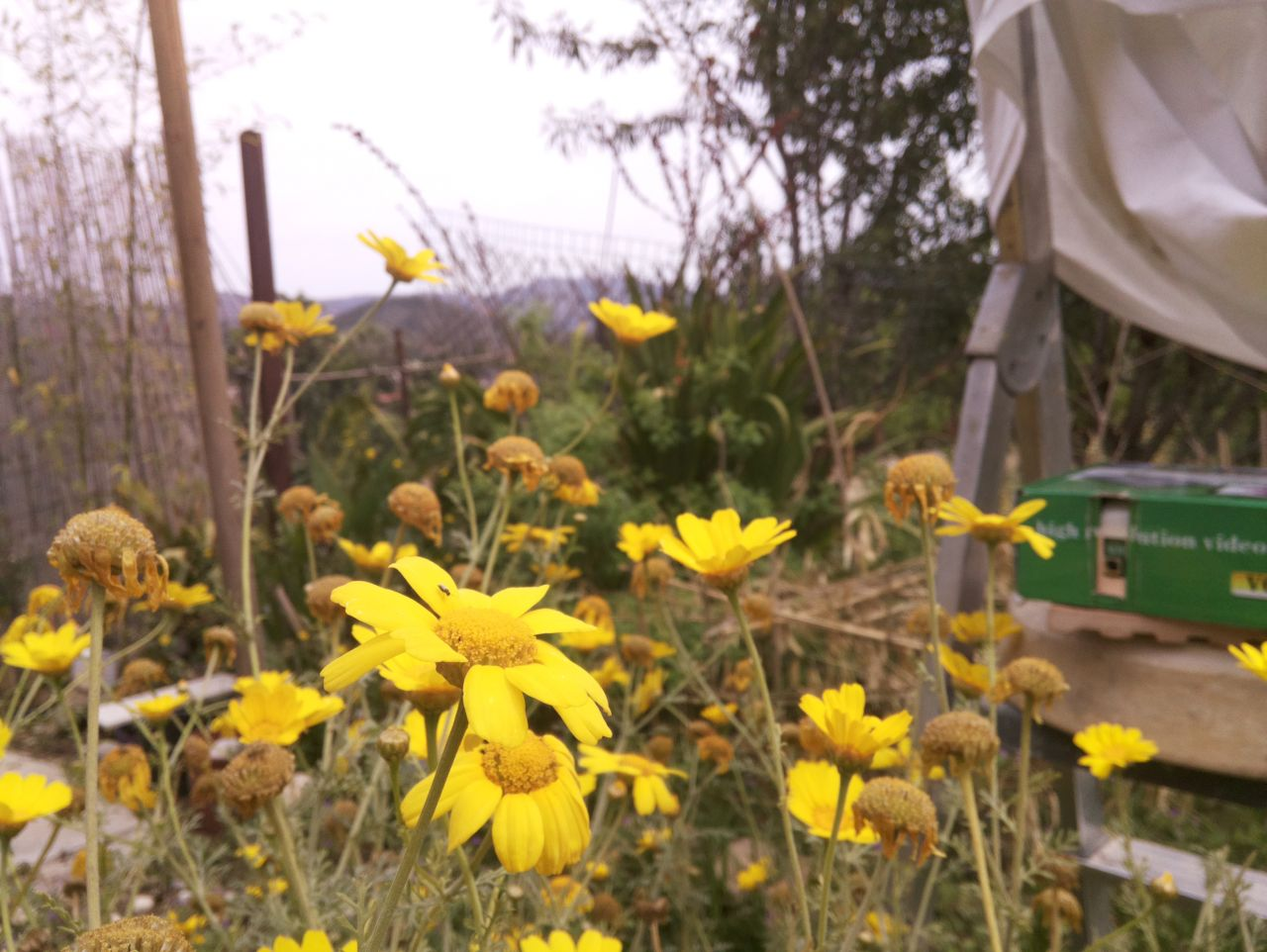Unidentified insect: (427, 580, 458, 605)
